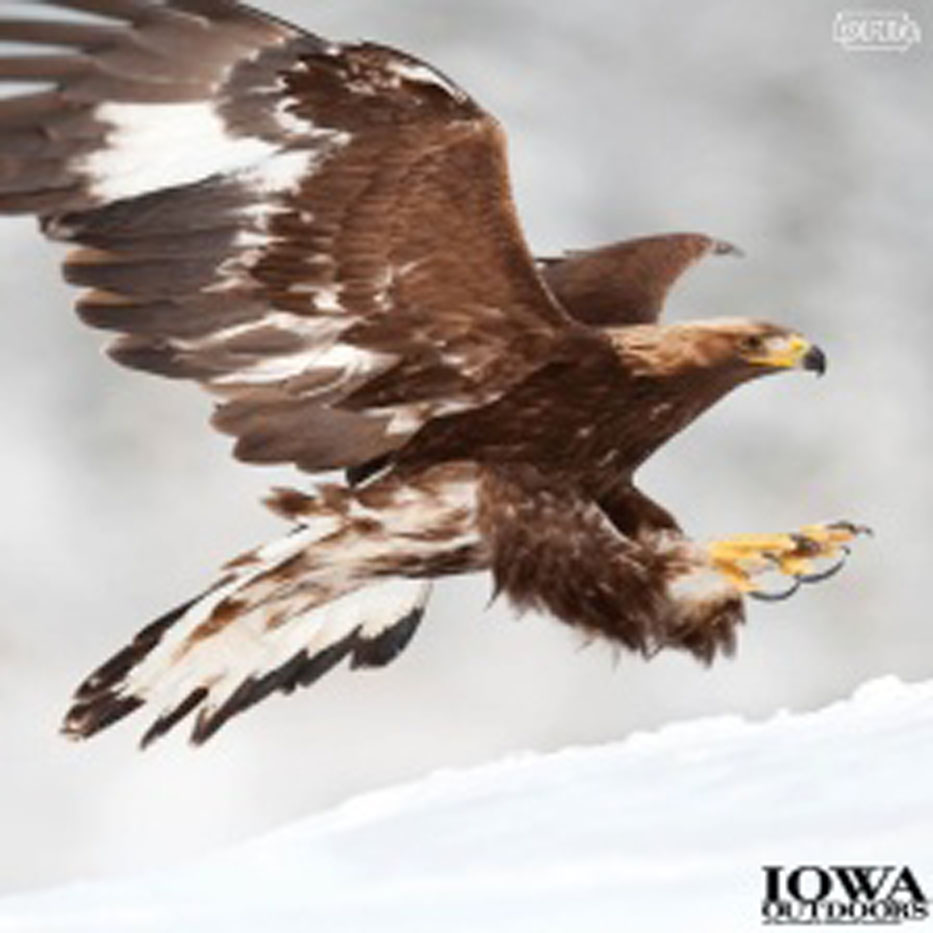Pengoyak Daging: (790, 333, 830, 383)
